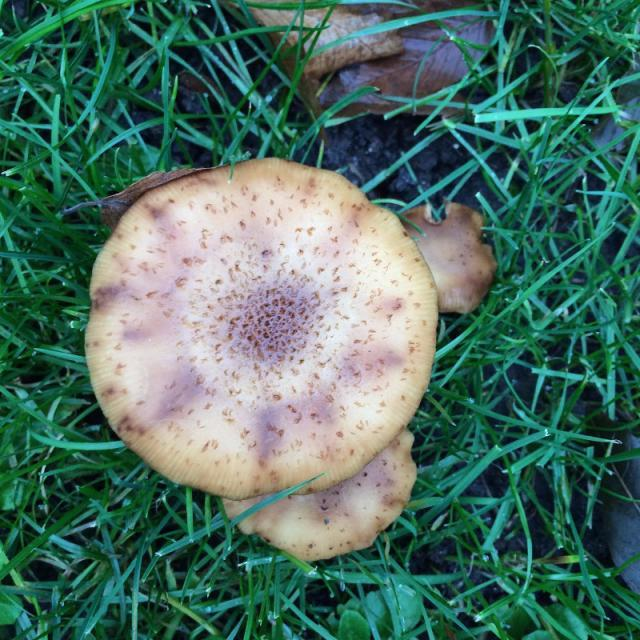Armillaria mellea: (83, 159, 439, 497)
